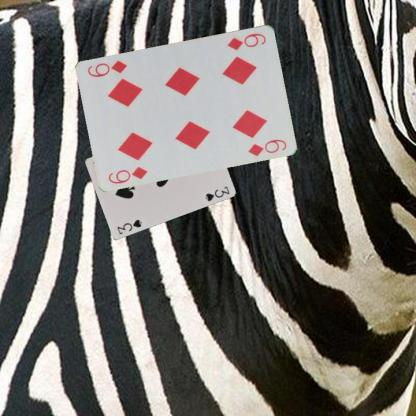3s: (115, 217, 144, 235)
6d: (106, 163, 149, 185), (225, 30, 268, 51)
